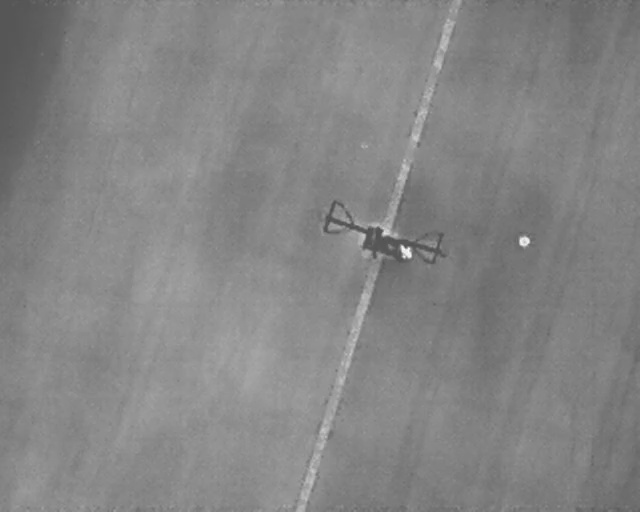Person: (399, 242, 413, 262), (518, 234, 531, 249)
